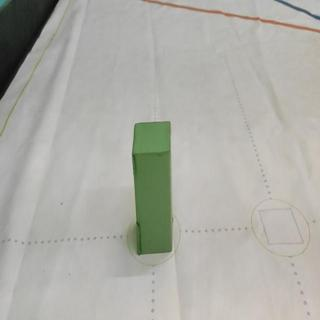greenbox: (133, 120, 174, 256)
